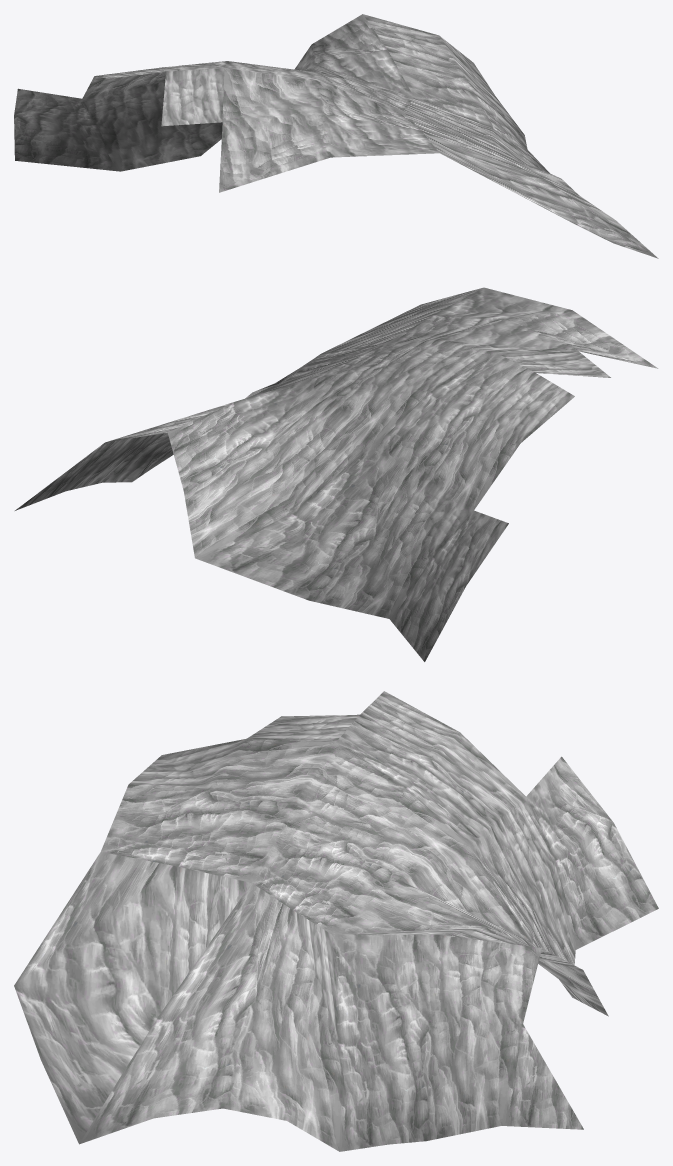
File: SWORDLIGHT20_PS-AREA03_53.fbx
3 views of the same model, one above another, from view 1: azimuth 30°, elevation 25°; view 2: azimuth 150°, elevation 25°; view 3: azimuth 270°, elevation 25° (orthographic). The views are drawn at different scales.
Visible parts, largest first — view 1: SWORDLIGHT20_PS-AREA03_53; view 2: SWORDLIGHT20_PS-AREA03_53; view 3: SWORDLIGHT20_PS-AREA03_53.
Part boxes in pixels (x1,y1,x2,y2): SWORDLIGHT20_PS-AREA03_53: [14, 14, 658, 258]; SWORDLIGHT20_PS-AREA03_53: [15, 287, 658, 661]; SWORDLIGHT20_PS-AREA03_53: [14, 691, 658, 1151].
Bounding box in the file's own units: 201360 × 79360 × 208361.
Materials: 1 (1 with a texture image).
